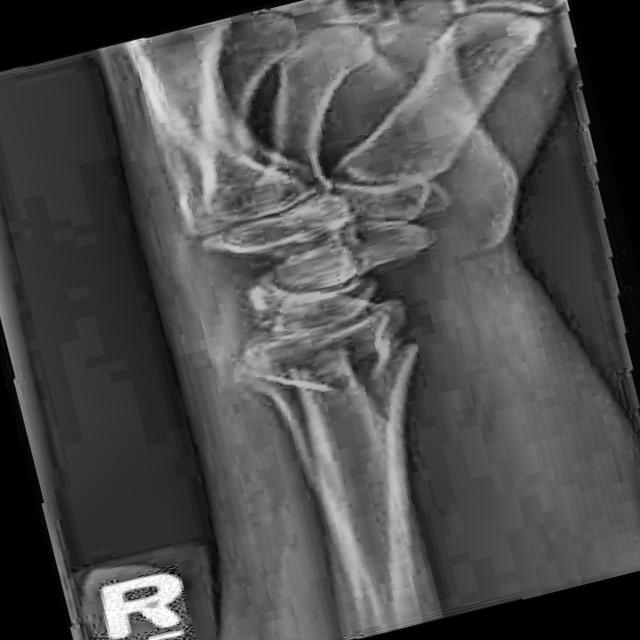wrist positive: (230, 312, 442, 426)
